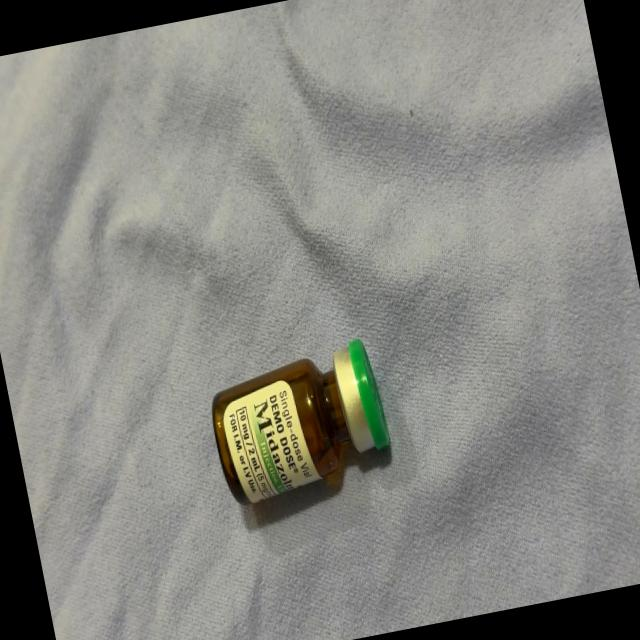midazolm: (206, 338, 396, 508)
